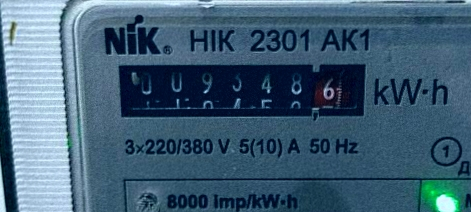0: (138, 70, 154, 97), (169, 67, 183, 93)
3: (230, 68, 244, 93)
4: (257, 66, 275, 96)
6: (320, 73, 337, 102)
8: (289, 69, 304, 97)
9: (200, 70, 214, 97)
screen: (101, 49, 379, 129)
